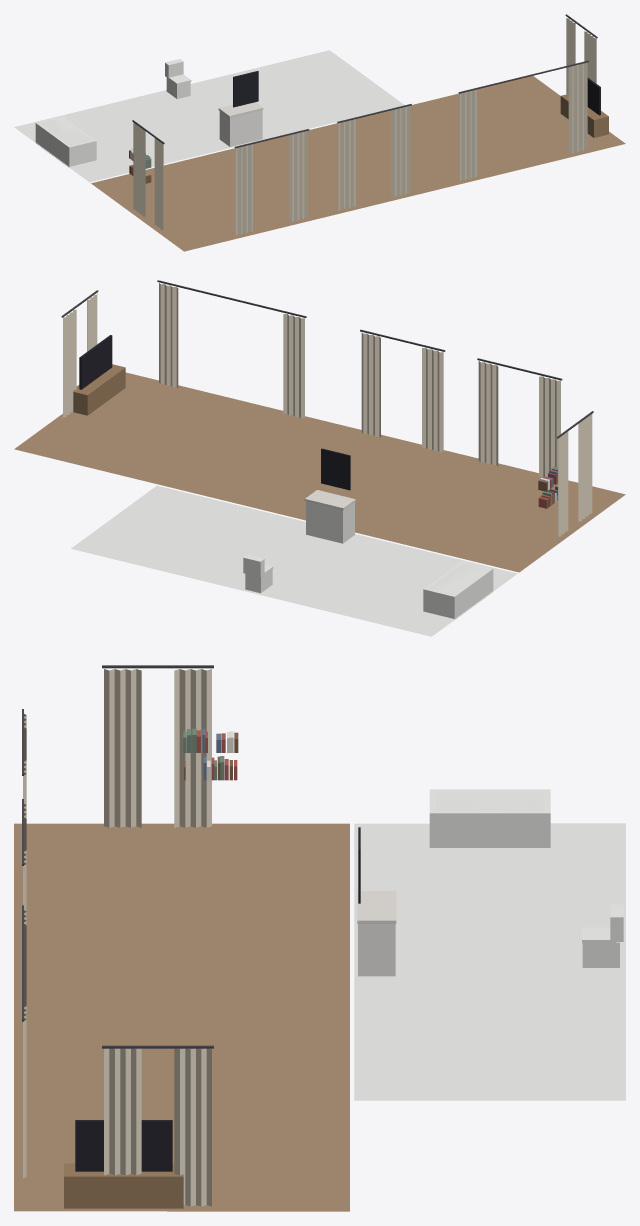
File: fine-s1.glb
3 views of the same model, one above another, from view 1: azimuth 30°, elevation 25°; view 2: azimuth 150°, elevation 25°; view 3: azimuth 270°, elevation 25° (orthographic). The views are drawn at different scales.
Visible parts, largest first — view 1: soft-s1, vanity.000, bathtub.000, tv-console.000, toilet.000; view 2: soft-s1, vanity.000, bathtub.000, tv-console.000, toilet.000; view 3: soft-s1, tv-console.000, bathtub.000, vanity.000, toilet.000.
Part boxes in pixels (x1,y1,x2,y2): soft-s1: (14, 14, 625, 251); vanity.000: (218, 71, 263, 146); bathtub.000: (35, 116, 96, 167); tv-console.000: (560, 77, 608, 137); toilet.000: (165, 59, 191, 98); soft-s1: (14, 280, 625, 636); vanity.000: (304, 448, 355, 543); bathtub.000: (423, 561, 493, 619); tv-console.000: (73, 335, 125, 415); toilet.000: (243, 554, 273, 593); soft-s1: (14, 665, 625, 1211); tv-console.000: (64, 1120, 183, 1208); bathtub.000: (429, 789, 550, 847); vanity.000: (357, 827, 396, 976); toilet.000: (582, 904, 623, 967).
Bounding box in the file's own units: 12.27 × 2.4 × 8.18.
